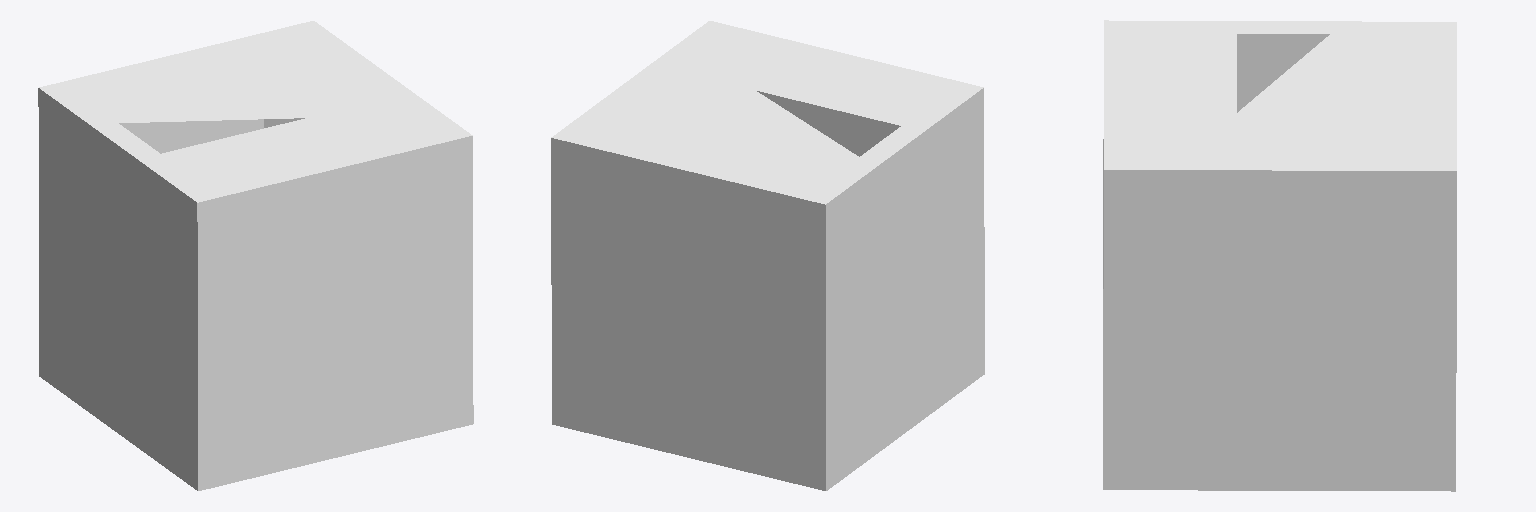
The robot description file, URDF, robot "Arrow_cube_bottle":
<?xml version="1.0" ?>
<robot name="Arrow_cube_bottle">
  <link name="baseLink">
    <contact>
    	<friction_anchor/>
    	   <lateral_friction value="1.0"/>
    </contact>
    <inertial>
      <origin rpy="0 0 0" xyz="0 0 0"/>
       <!-- mass controls penetration -->
       <mass value=".5"/>
       <inertia ixx="1e-4" ixy="0" ixz="0" iyy="1e-4" iyz="0" izz="1e-4"/>
    </inertial>
    <visual>
      <origin rpy="0 0 0" xyz="0 0 0"/>
      <geometry>
        <mesh filename="Arrow_cube_bottle_enlarge2.obj" scale="0.6 0.6 0.6"/>
      </geometry>
       <material name="white">
        <color rgba="1 1 1 1"/>
      </material>
    </visual>
    <collision>
      <origin rpy="0 0 0" xyz="0 0 0"/>
      <geometry>
        <mesh filename="Arrow_cube_bottle_enlarge2.obj" scale="0.6 0.6 0.6"/>
      </geometry>
      <sdf resolution="300"/>
    </collision>
  </link>
</robot>

--- Facts derived from the render (not from the file) ---
Views: 3 orthographic renders of the robot side by side, from view 1: azimuth 30°, elevation 25°; view 2: azimuth 150°, elevation 25°; view 3: azimuth 270°, elevation 25°.
Robot: Arrow_cube_bottle — 1 links, 0 joints (none); root link baseLink; default pose: every joint at zero.
Links seen in each view (by area): view 1: baseLink; view 2: baseLink; view 3: baseLink.
Link boxes in pixels (box(x1,y1,x2,y2)): baseLink: box(38, 21, 473, 490); baseLink: box(551, 21, 984, 490); baseLink: box(1103, 20, 1456, 491).
Size in the robot's own frame: 0.048 by 0.0482 by 0.0482 metres.
1 mesh visuals loaded from 1 distinct referenced files (1 OBJ).